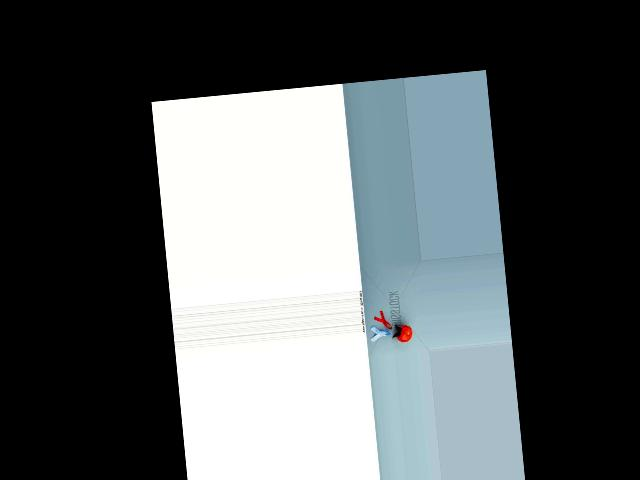tomato: (395, 324, 412, 342)
